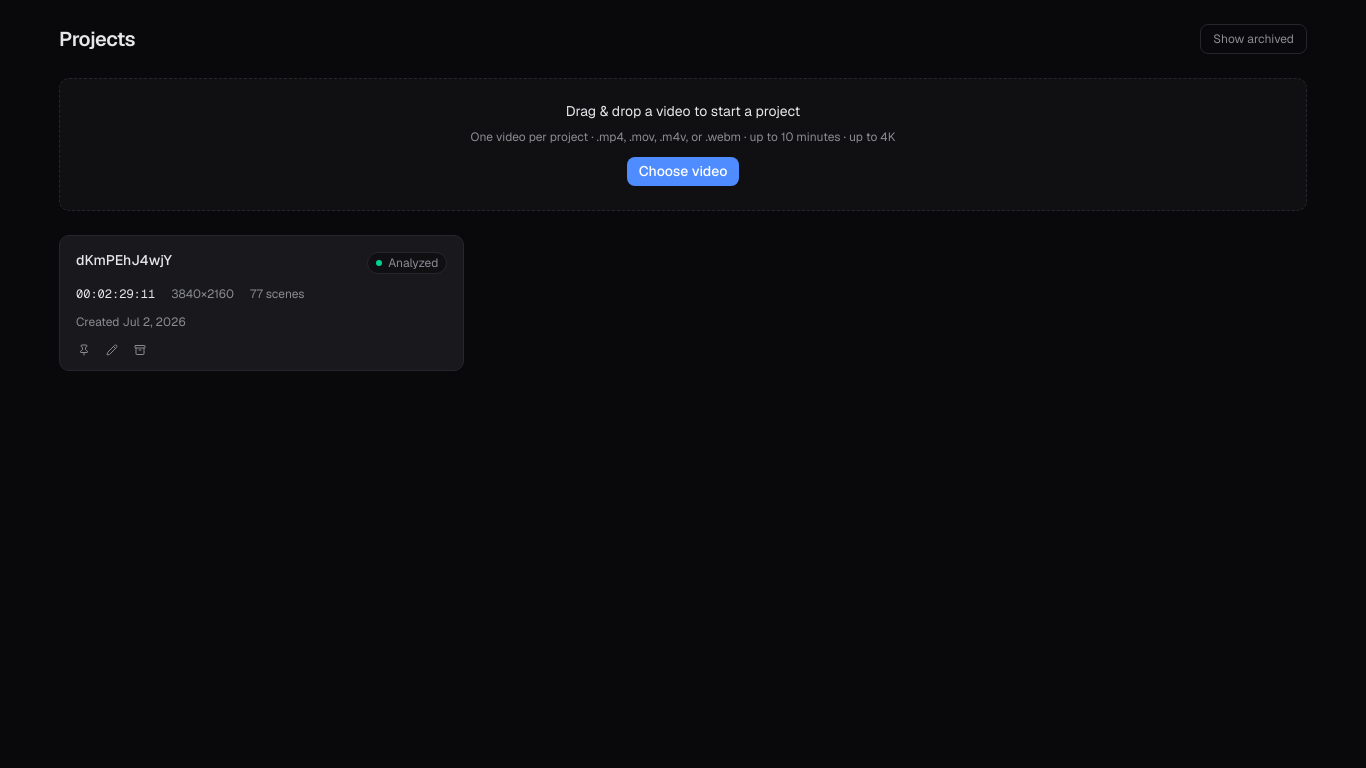
ProjectsScreen management › renames a project via the dialog, trimming the name
Expected: the link "dKmPEhJ4wjY" is shown, [60, 236, 463, 338]
Click the button named "Rename project" at (112, 350), box [100, 338, 124, 362]
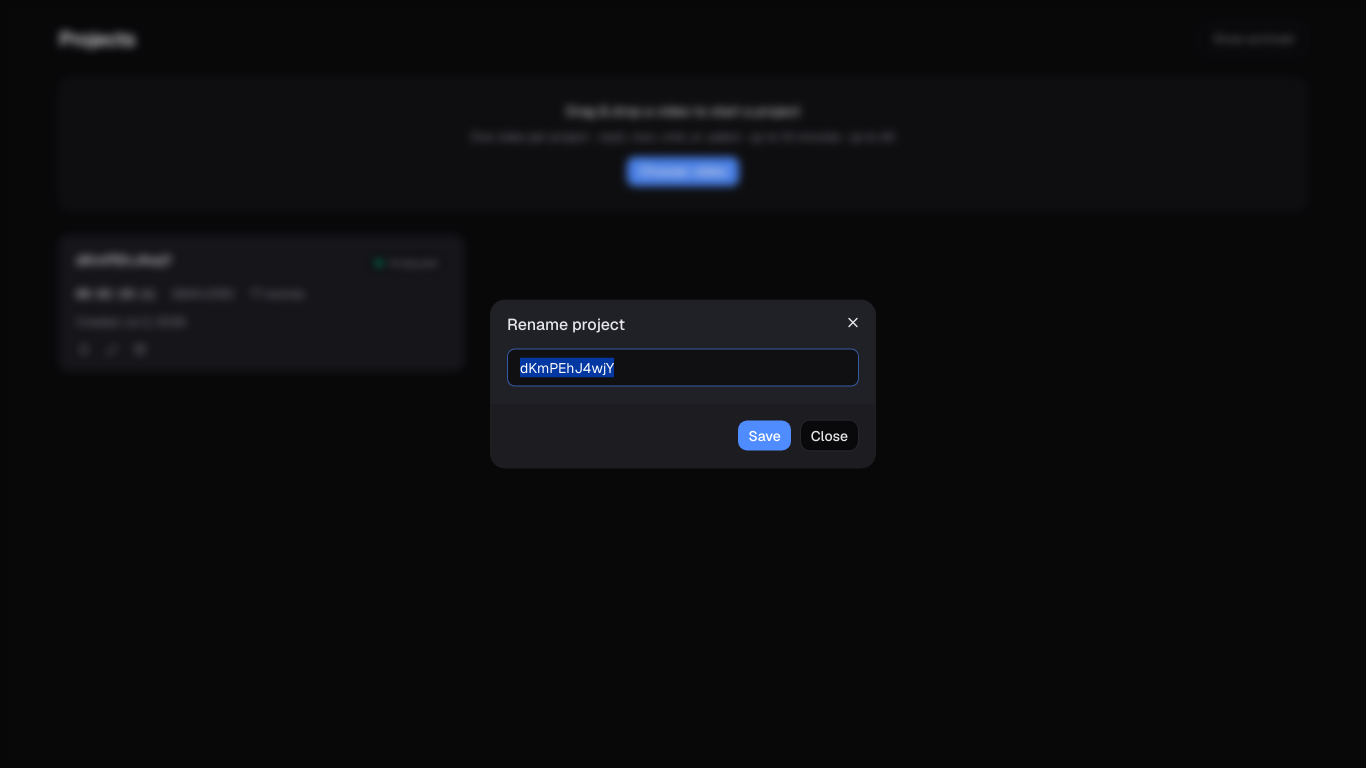
Expected: the field named "Project name" holds "dKmPEhJ4wjY"
Replace the text in the field named "Project name" with "  Beach day  " at (683, 368), box [507, 348, 859, 386]
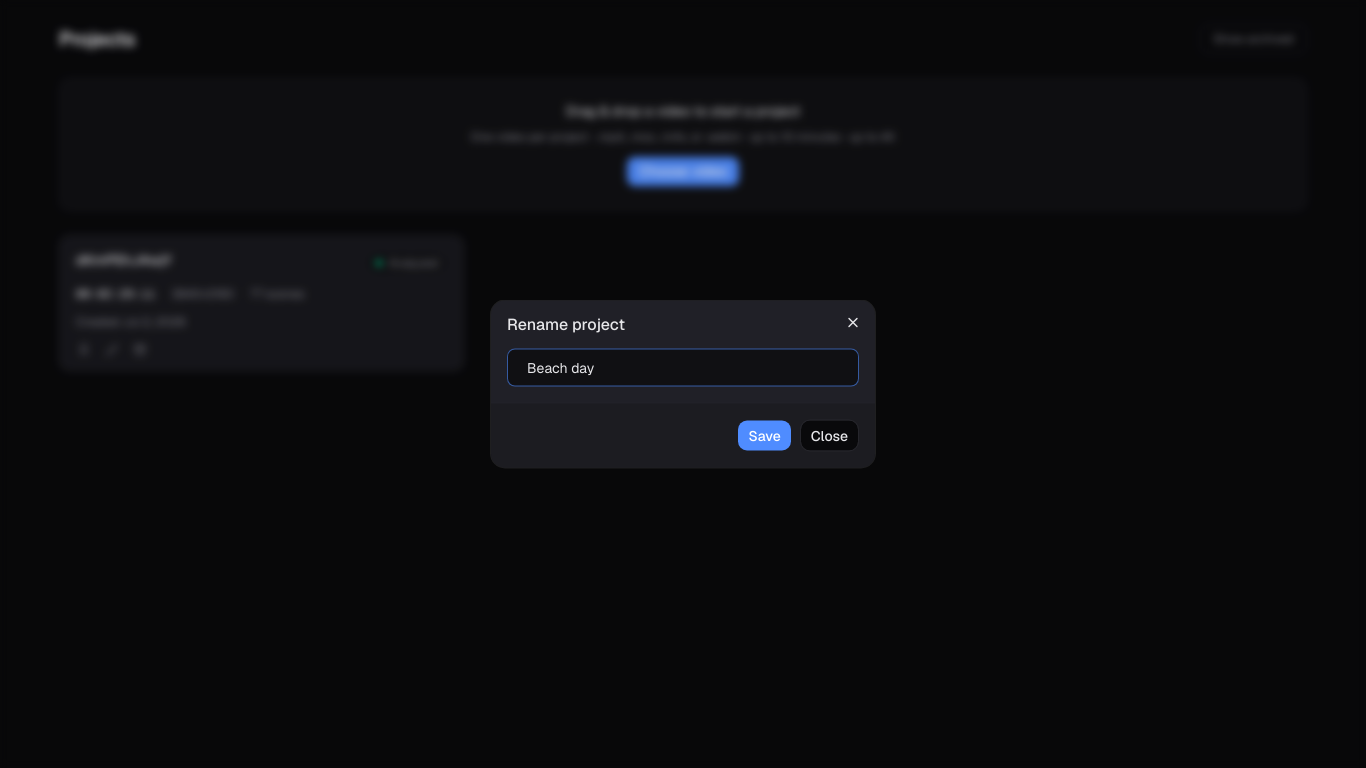
Click the button "Save" at (765, 436), box [738, 420, 792, 452]
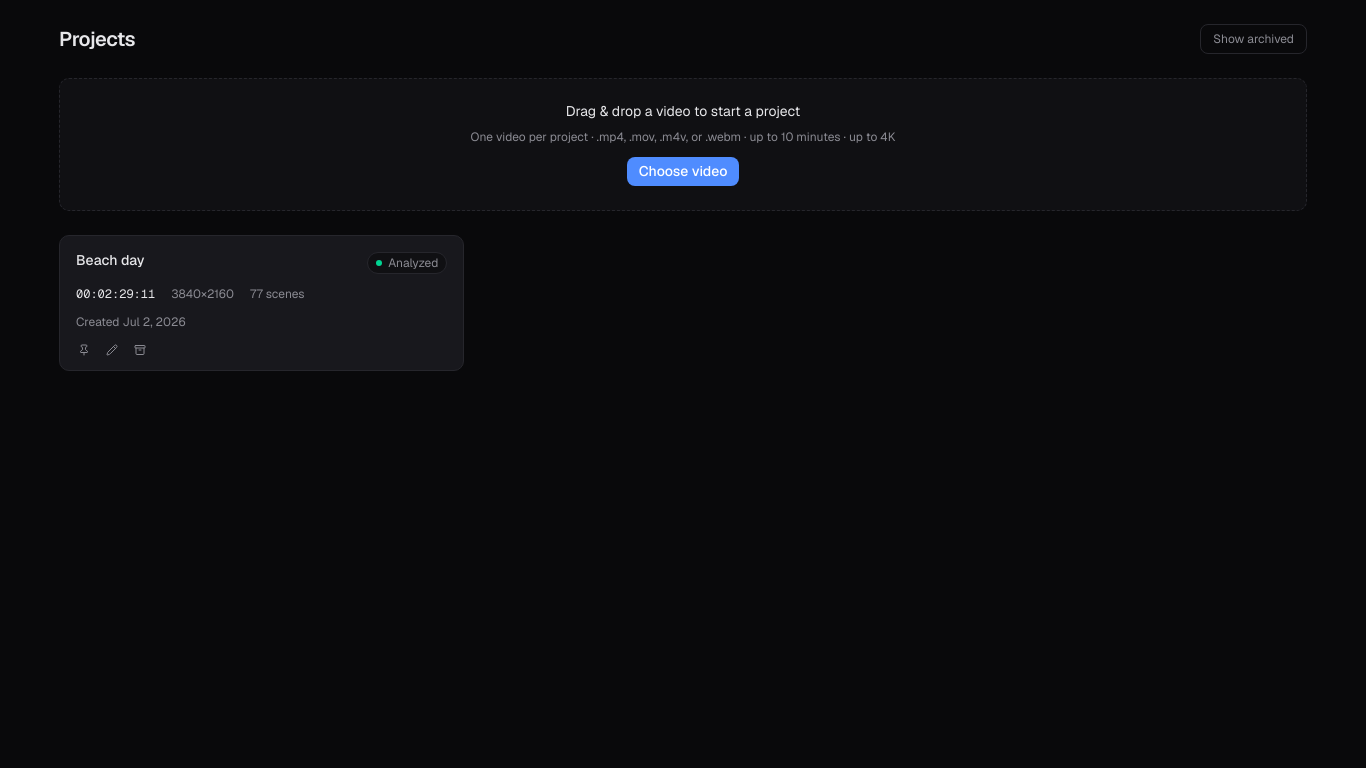
Expected: the text "Beach day" is shown, [76, 252, 144, 270]
Expected: the link "Beach day" is shown, [60, 236, 463, 338]
